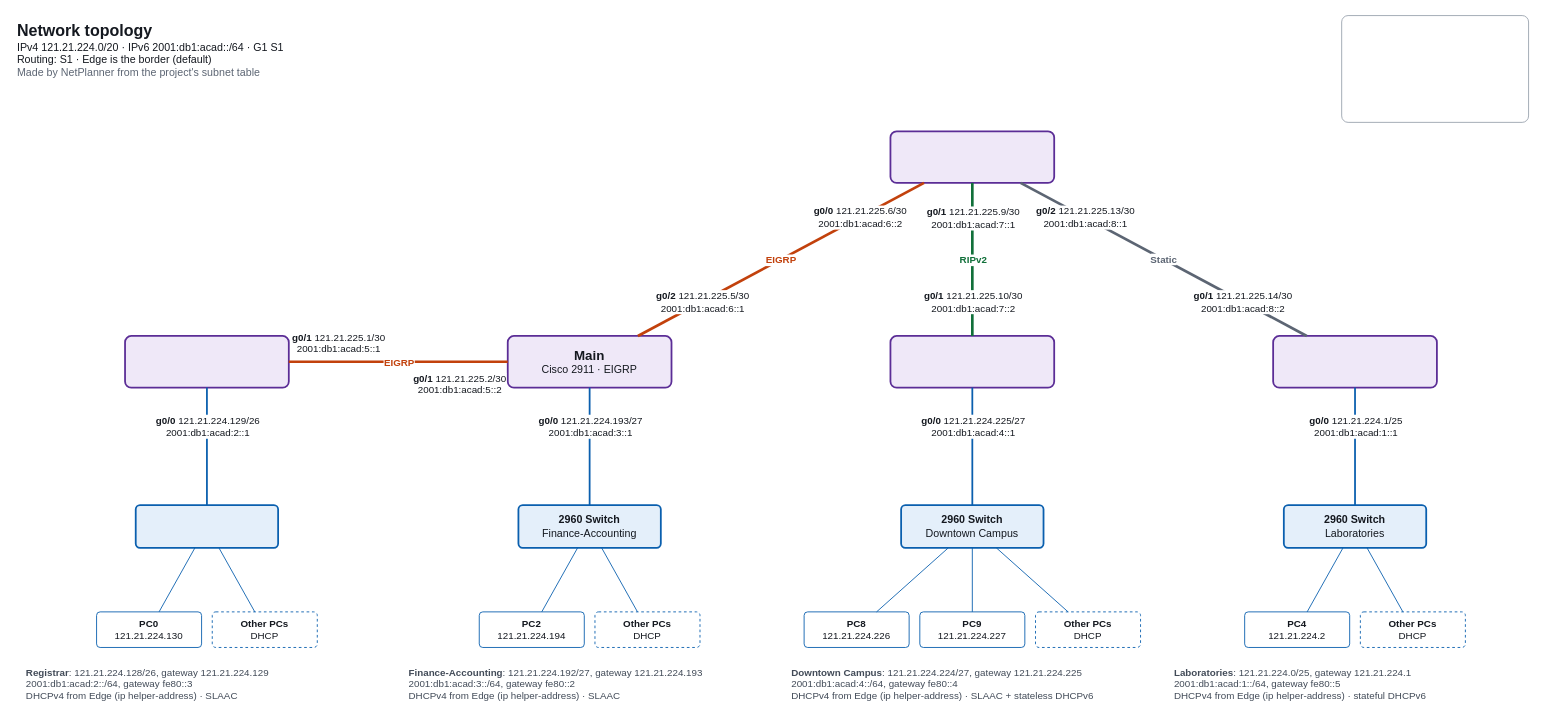
Some shapes in this 1544 by 726 pixel diagram are drawn without their labels. The shapes that lost their labels are listed below. From the top down, each one's box as (x1, y1, x2, y2) in pixels, then its label:
(1341, 15, 1529, 122): Links ━━ EIGRP ━━ RIPv2 ━━ Static ━━ LAN Dashed PC = takes an address from DHCP
(889, 130, 1055, 183): Edge Cisco 2911 · Static + RIPv2 + EIGRP
(124, 335, 289, 388): R1 Cisco 1941 · EIGRP
(889, 335, 1055, 388): R2 Cisco 1941 · RIPv2
(1272, 335, 1437, 388): R3 Cisco 1941 · Static
(134, 504, 279, 548): 2960 Switch Registrar
